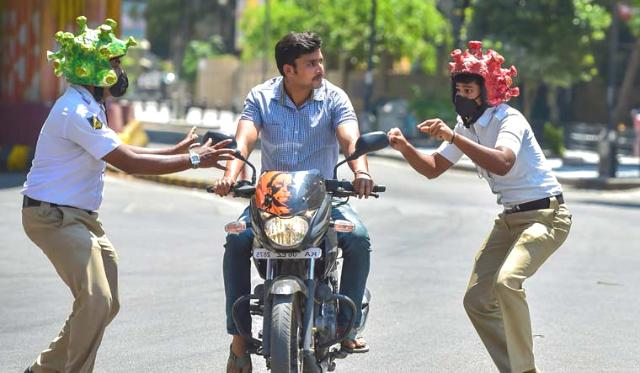licensePlate: (252, 249, 324, 262)
motorcycle: (205, 28, 390, 373)
withoutHelmet: (273, 32, 329, 95)
